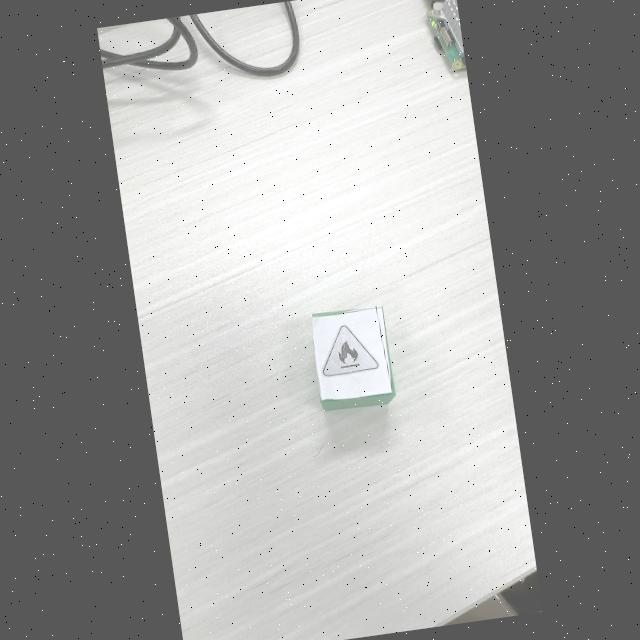Fire: (323, 326, 379, 377)
